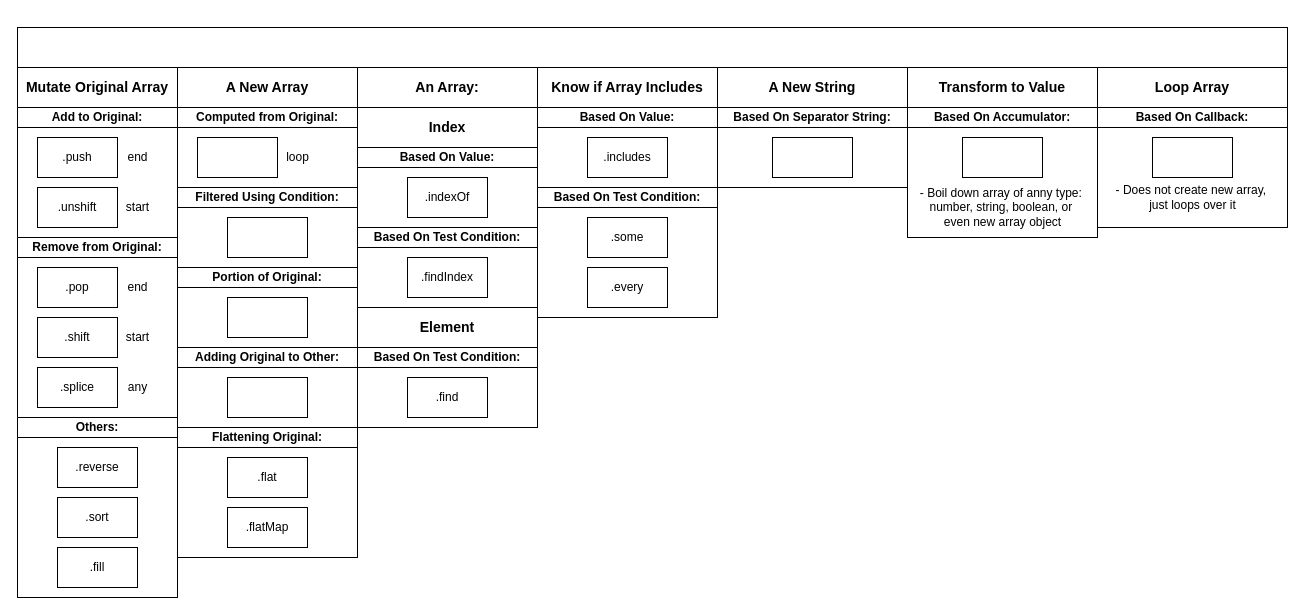
The diagram is 1305 pixels wide and 615 high, and some of its shapes have lost their labels. The shapes that lost their labels are listed below. From the top down, each one's centre as x and y in pixels, then its label:
At (652,47): "I want:".
At (237,157): ".map".
At (812,157): ".join".
At (1002,157): ".reduce".
At (1192,157): ".forEach".
At (267,237): ".filter".
At (267,317): ".slice".
At (267,397): ".concat".
